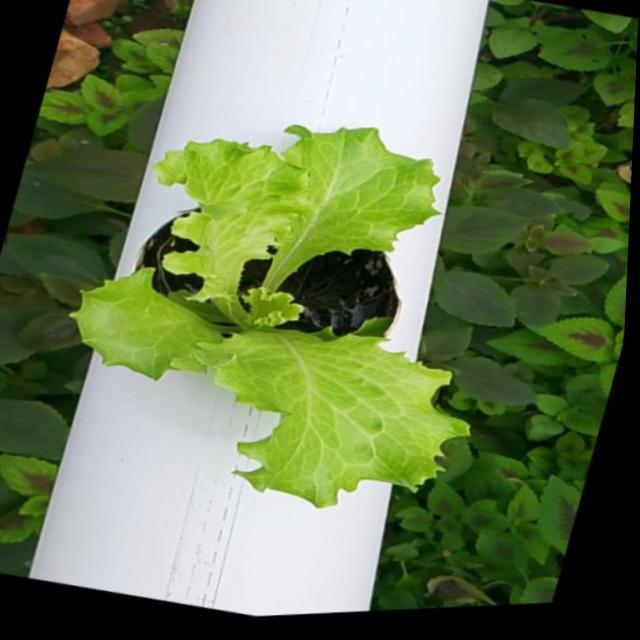Baby: (51, 125, 447, 504)
